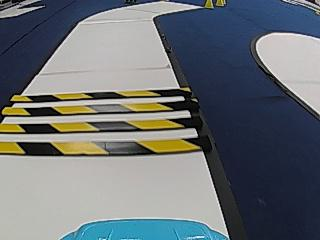bump: (5, 81, 207, 162)
